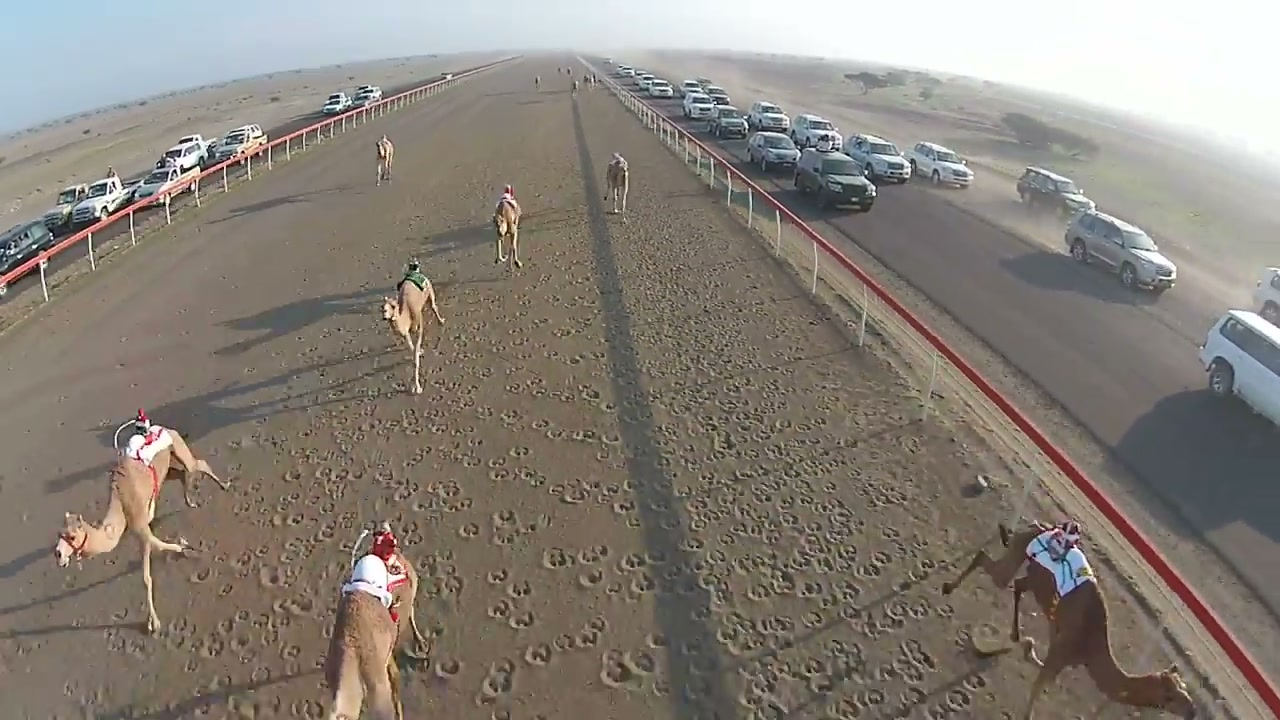animal_foot_print: (582, 217, 924, 664), (417, 264, 666, 713), (200, 380, 439, 713)
